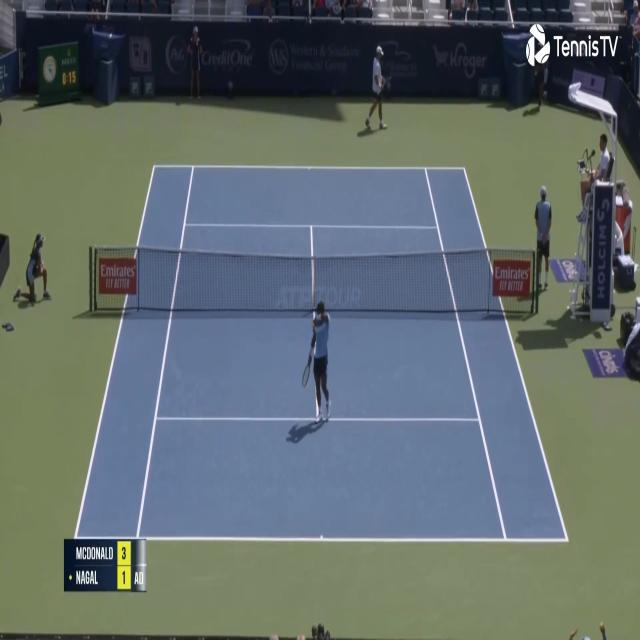tennis-player: (300, 297, 335, 430), (363, 43, 393, 133)
